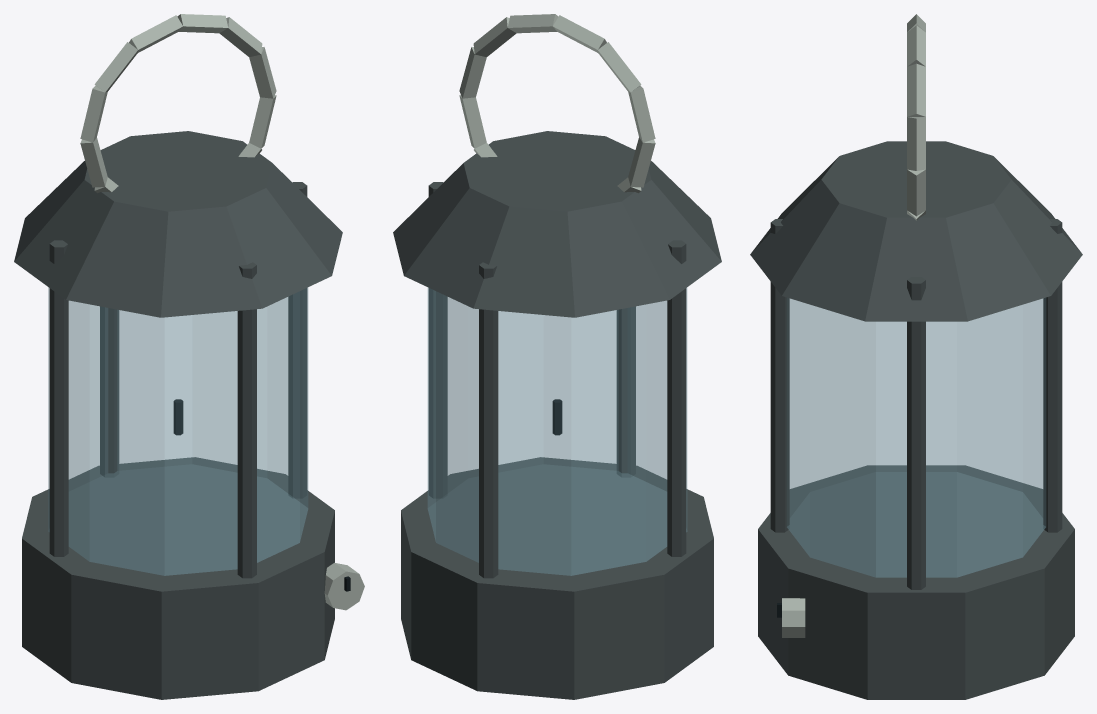
The model's file is blender_firelight_2.glb.
3 views of the same model, side by side, from view 1: azimuth 30°, elevation 25°; view 2: azimuth 150°, elevation 25°; view 3: azimuth 270°, elevation 25° (orthographic).
Visible parts, largest first — view 1: blender_firelight_2; view 2: blender_firelight_2; view 3: blender_firelight_2.
Part boxes in pixels (<box>): blender_firelight_2: <box>14,14,364,699</box>; blender_firelight_2: <box>393,14,721,699</box>; blender_firelight_2: <box>750,14,1082,699</box>.
Bounding box in the file's own units: 0.1338 × 0.2854 × 0.1407.
Materials: 2 (2 with a texture image).
